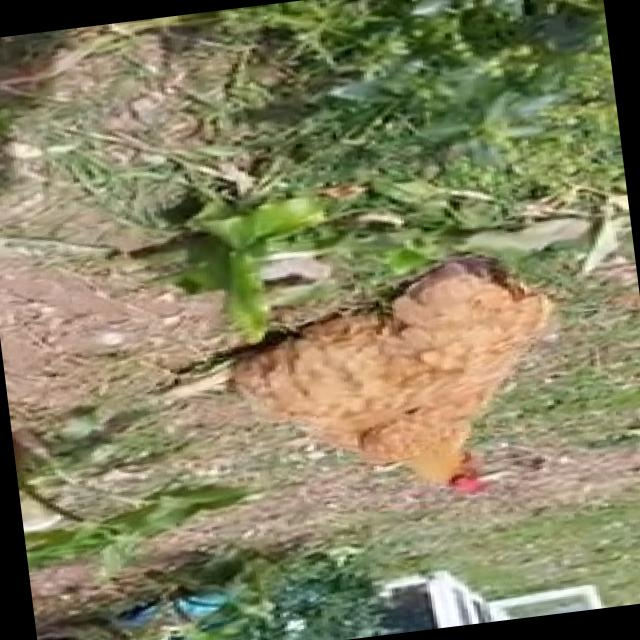leg stretching: (174, 255, 579, 574)
